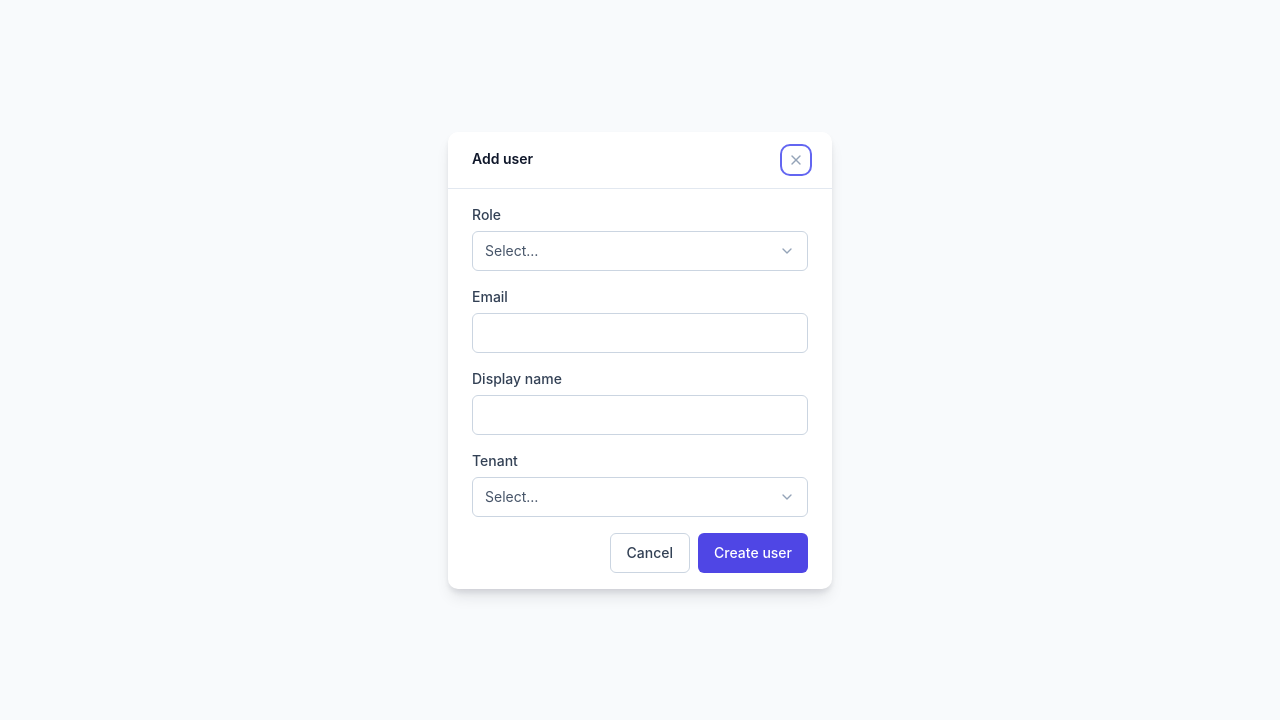
Test: AddUserModal — TC-26/TC-27: the role dropdown offers only the actor's allowed roles › country_admin sees only tenant_admin (TC-27)
The width and height of the screenshot is (1280, 720).
Step 1. Click the dropdown named "role" → (512, 250), box x1=472 y1=230 x2=808 y2=270
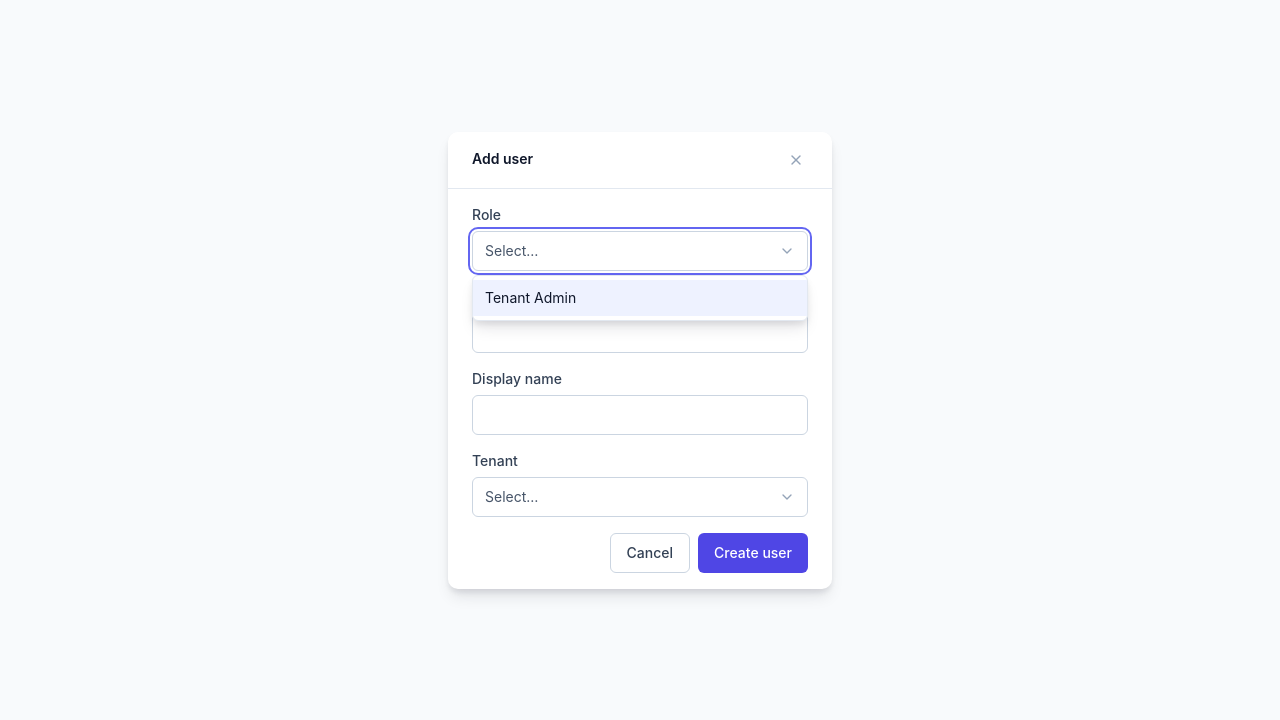
Check: the option "Tenant Admin" is shown, box x1=473 y1=280 x2=807 y2=316
